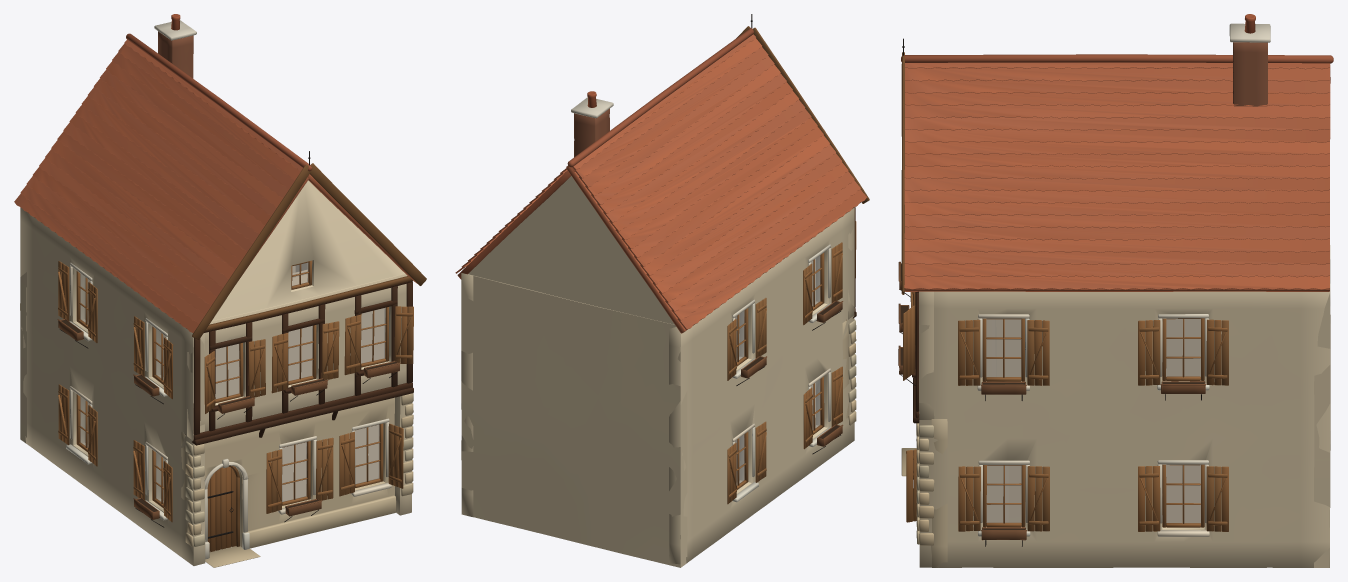
File: StraightEnd_Outer2.glb
3 views of the same model, side by side, from view 1: azimuth 30°, elevation 25°; view 2: azimuth 150°, elevation 25°; view 3: azimuth 270°, elevation 25° (orthographic). The views are drawn at different scales.
Visible parts, largest first — view 1: Sammel Putz, Sammel Stein, Sammel Holz, Sammel Quader, Glas, Sammel Putz innen, Sammel Ziegel; view 2: Sammel Putz, Sammel Stein, Sammel Holz, Glas, Sammel Ziegel; view 3: Sammel Stein, Sammel Putz, Sammel Holz, Sammel Putz innen, Glas, Sammel Ziegel, Sammel Quader.
Part boxes in pixels (x1,y1,x2,y2): Sammel Putz: [20, 14, 411, 565]; Sammel Stein: [14, 33, 417, 567]; Sammel Holz: [57, 163, 426, 551]; Sammel Quader: [181, 397, 394, 547]; Glas: [80, 263, 385, 502]; Sammel Putz innen: [84, 263, 384, 501]; Sammel Ziegel: [158, 31, 193, 78]; Sammel Putz: [461, 91, 854, 567]; Sammel Stein: [455, 28, 866, 425]; Sammel Holz: [727, 26, 869, 504]; Glas: [735, 255, 820, 483]; Sammel Ziegel: [574, 108, 609, 157]; Sammel Stein: [901, 54, 1333, 545]; Sammel Putz: [900, 14, 1330, 567]; Sammel Holz: [898, 52, 1228, 540]; Sammel Putz innen: [986, 319, 1200, 522]; Glas: [986, 319, 1200, 523]; Sammel Ziegel: [1233, 42, 1267, 106]; Sammel Quader: [931, 419, 947, 567].
Size of the model in its own units: 6.84 by 11 by 8.74.
